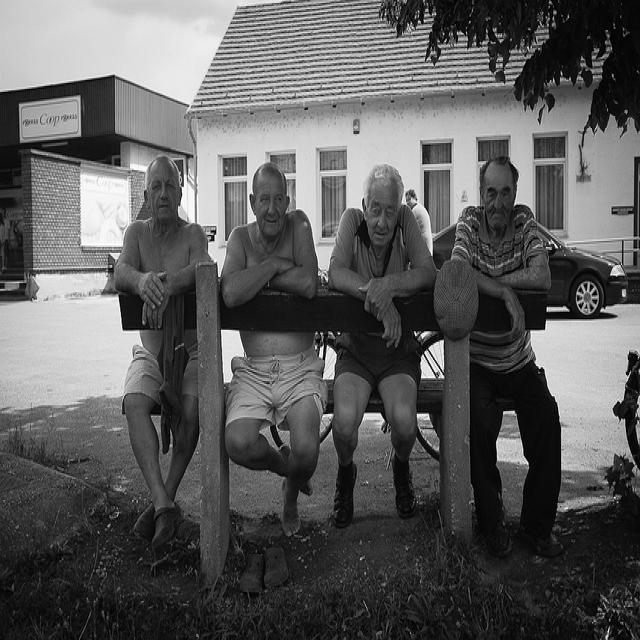motor: (611, 340, 640, 480)
